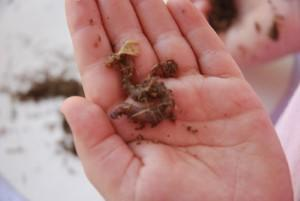earthworms: (87, 49, 188, 142)
